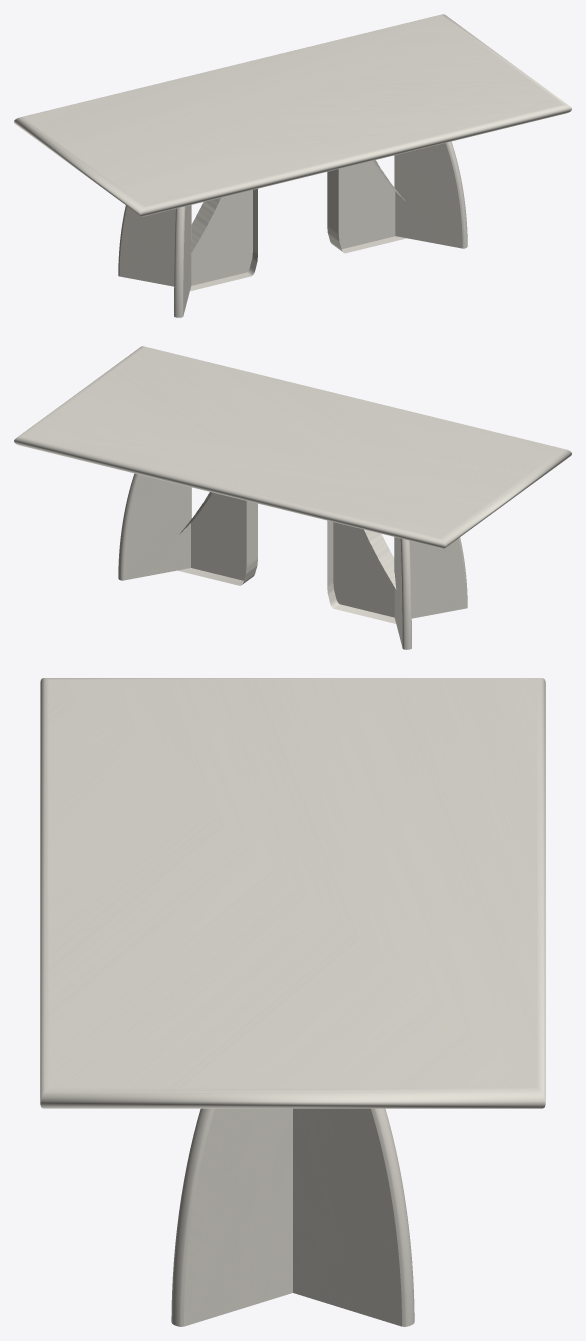
The model's file is pale_recta_round_plane.glb.
3 renders of one model, top to bottom at view 1: azimuth 30°, elevation 25°; view 2: azimuth 150°, elevation 25°; view 3: azimuth 270°, elevation 25°, orthographic. The views are drawn at different scales.
Parts seen in each view (by area): view 1: round_recta, plane_singleright2, plane_single1, plane_single2, plane_singleleft1, plane_singleright1; view 2: round_recta, plane_singleleft2, plane_single1, plane_single2, plane_singleright1, plane_singleleft1; view 3: round_recta, plane_singleleft2, plane_singleright2.
Boxes of the visible parts, <box> form: round_recta: <box>14,14,571,216</box>; plane_singleright2: <box>394,141,467,248</box>; plane_single1: <box>190,189,257,291</box>; plane_single2: <box>327,160,406,253</box>; plane_singleleft1: <box>118,205,191,286</box>; plane_singleright1: <box>174,205,191,317</box>; round_recta: <box>14,346,571,548</box>; plane_singleleft2: <box>118,473,191,580</box>; plane_single1: <box>327,520,396,623</box>; plane_single2: <box>178,492,257,585</box>; plane_singleright1: <box>394,537,467,618</box>; plane_singleleft1: <box>394,537,411,649</box>; round_recta: <box>40,678,545,1108</box>; plane_singleleft2: <box>293,1108,414,1326</box>; plane_singleright2: <box>171,1108,292,1326</box>.
Bounding box in the file's own units: 7.5 × 2.49 × 3.8.
Materials: 1 (1 with a texture image).
